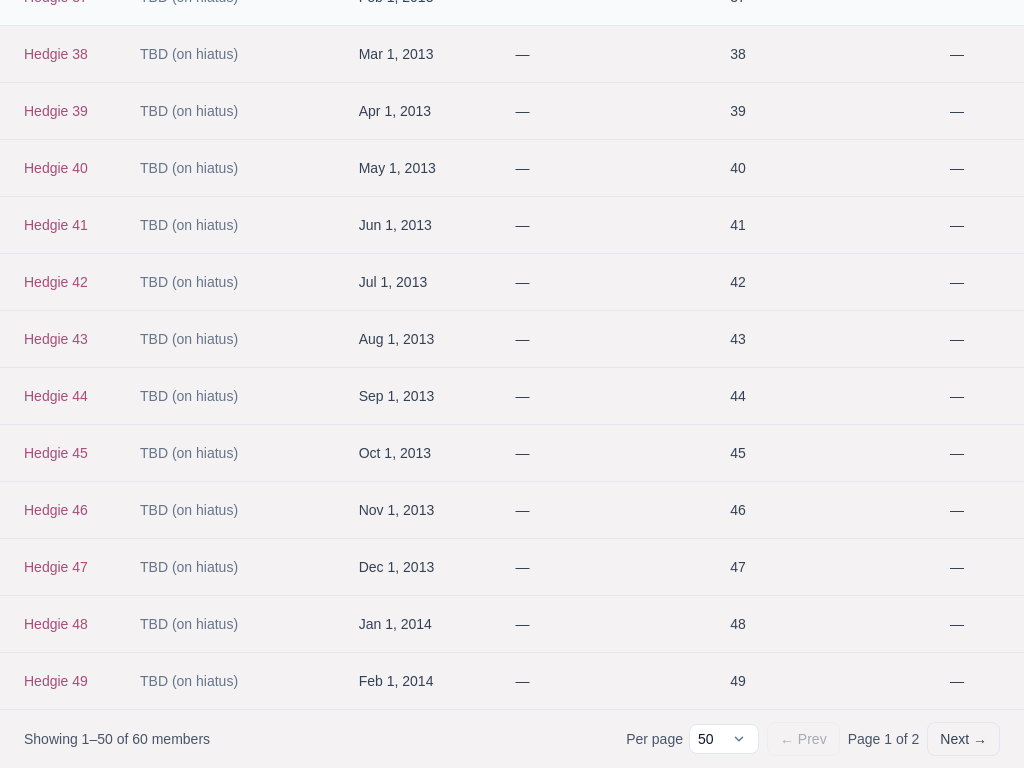
client-side paging on HedgieversariesTable › sorts across all pages and returns to page 1 on a new sort
The width and height of the screenshot is (1024, 768).
(page scrolled)
What coordinates should you click on to do the following:
click the button "Next →"
I would click on:
 (964, 739)
Its box is left=927, top=722, right=1000, bottom=756.
(page scrolled)
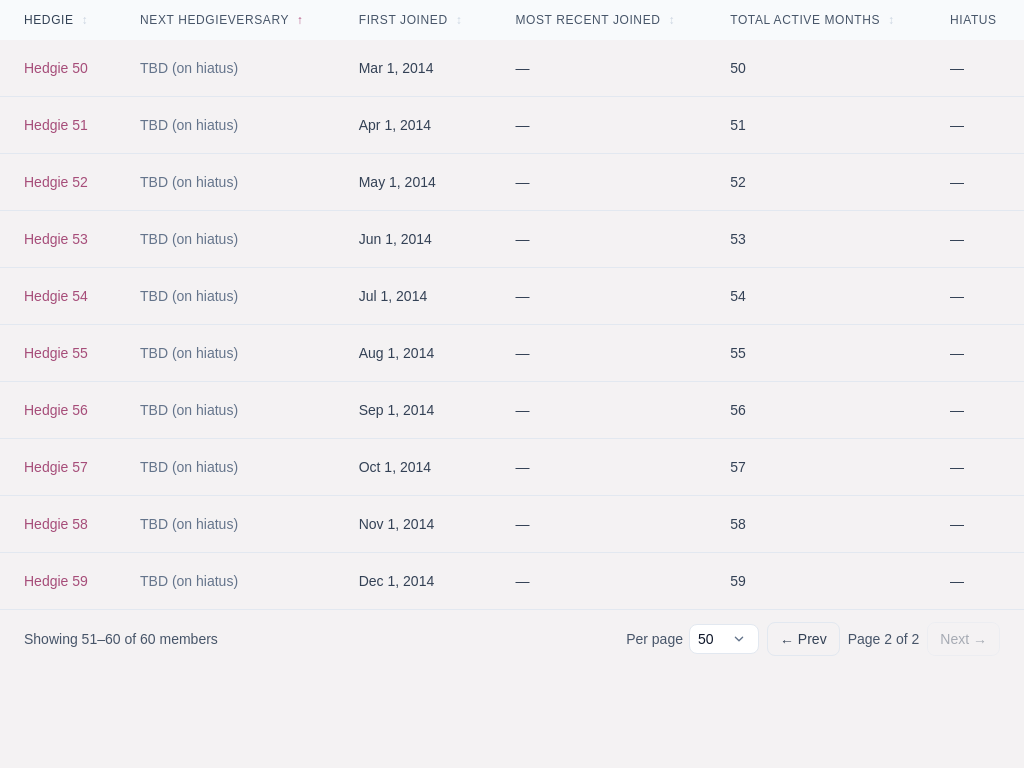
What coordinates should you click on to do the following:
click the column heading "First Joined"
I would click on:
 (413, 20)
Its box is left=335, top=0, right=492, bottom=40.
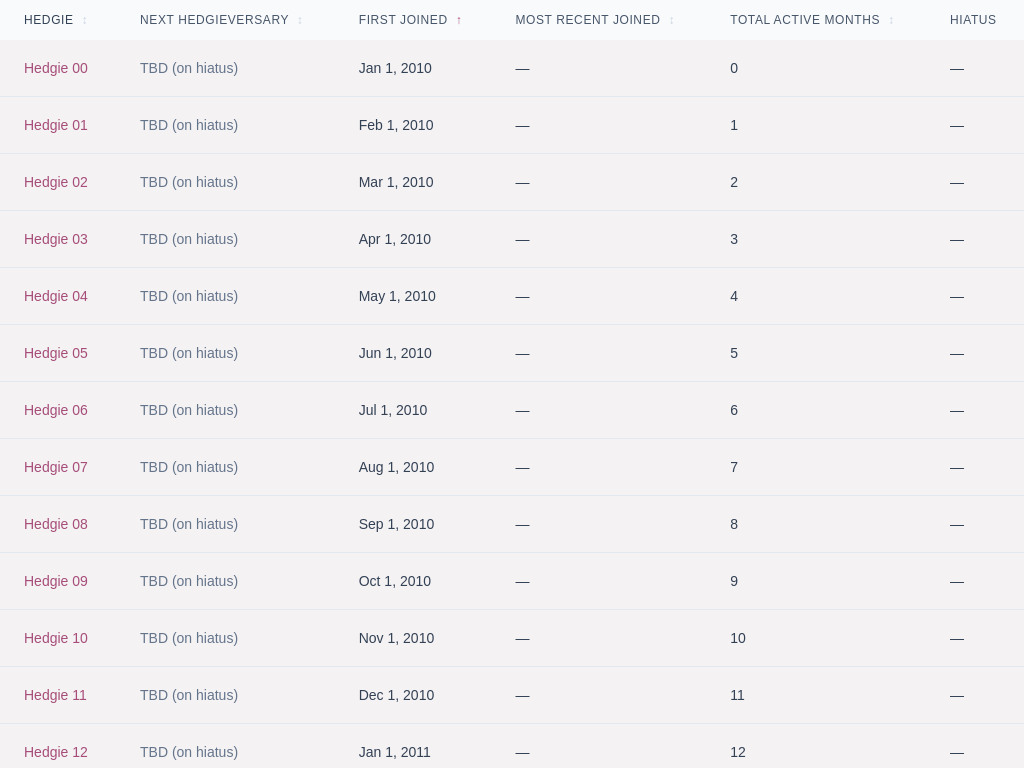
What coordinates should you click on to do the following:
click the column heading "First Joined"
I would click on:
 (413, 20)
Its box is left=335, top=0, right=492, bottom=40.
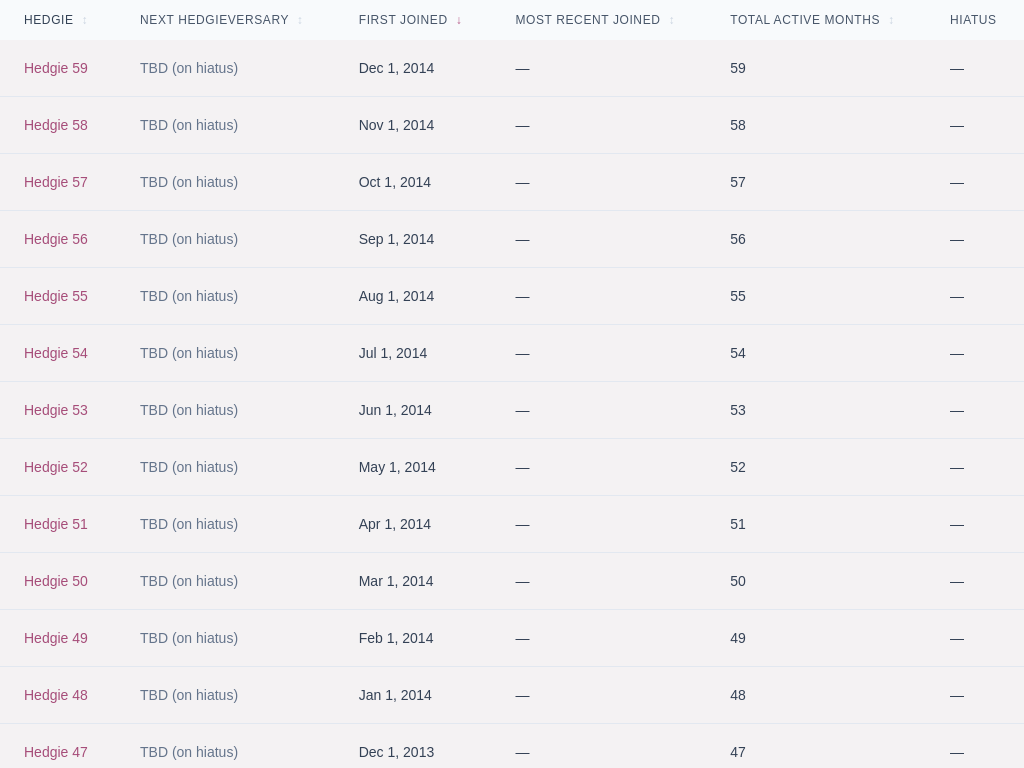
Result: the link "Hedgie 59" is shown at left=24, top=60, right=88, bottom=76
